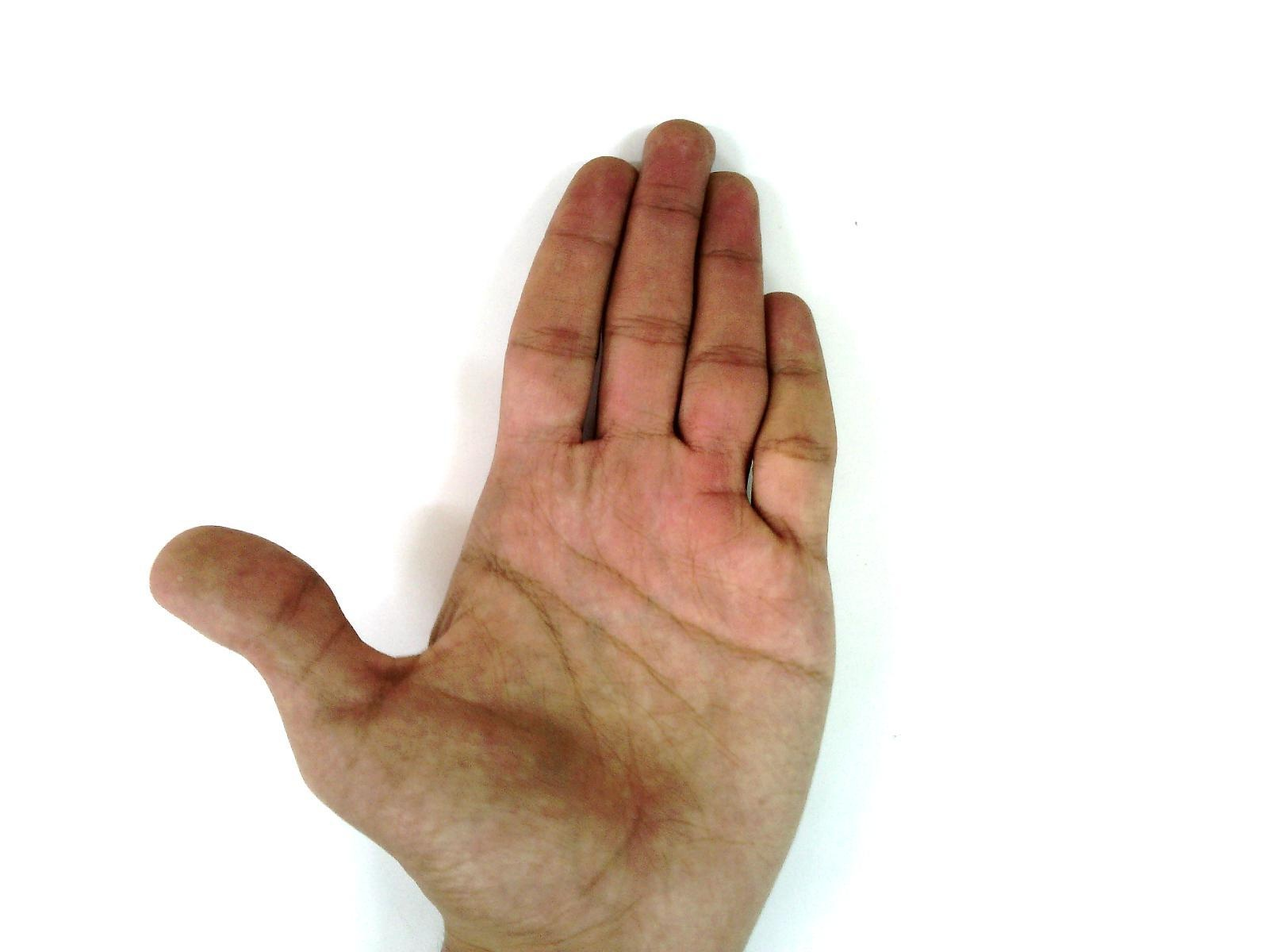open_palm: (148, 118, 843, 951)
